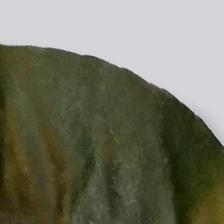healthy: (1, 46, 221, 224)
